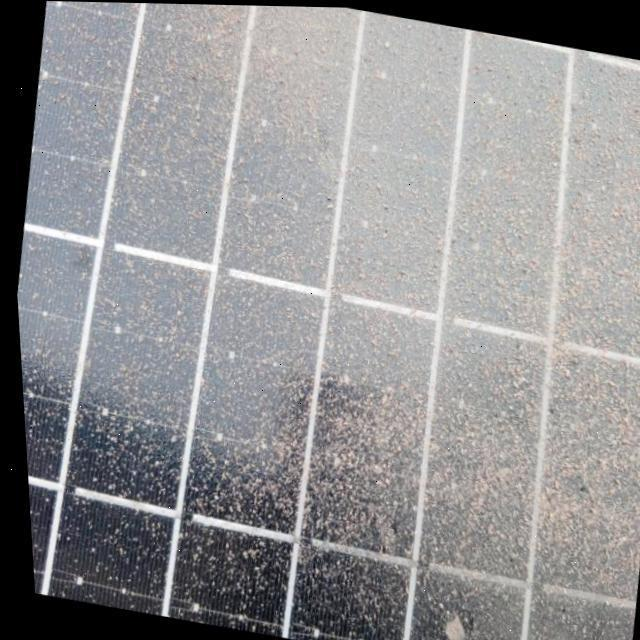Surface Contaminant: (14, 1, 640, 640)
